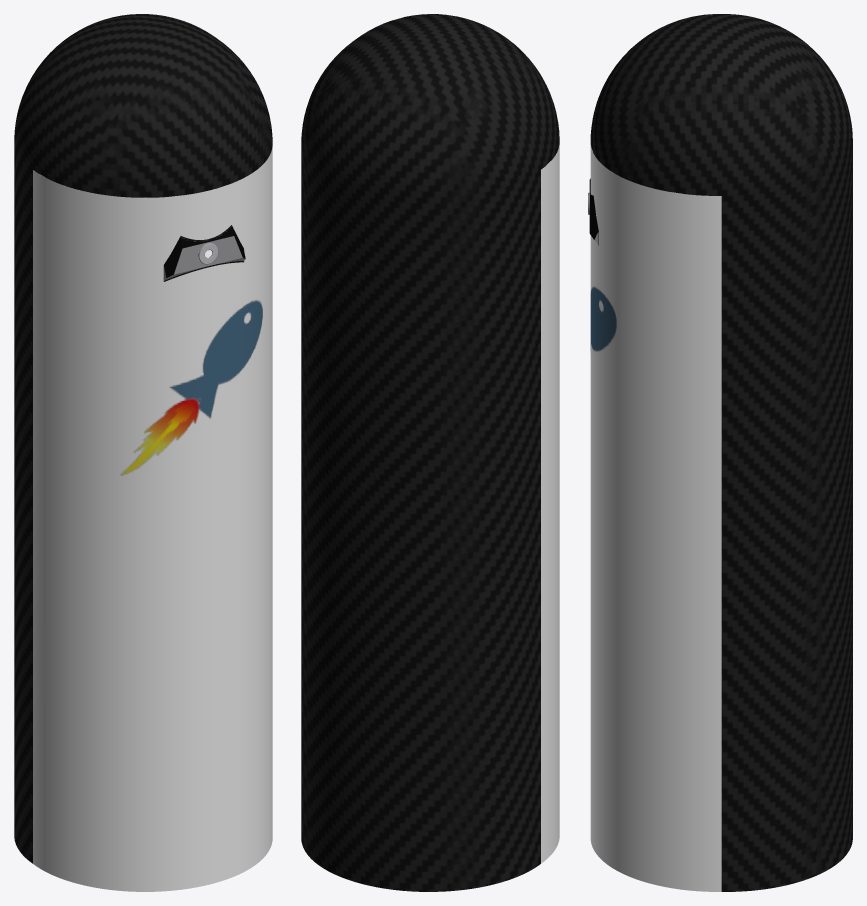
Rendered from orcasmol.glb.
3 renders of one model, left to right at view 1: azimuth 30°, elevation 25°; view 2: azimuth 150°, elevation 25°; view 3: azimuth 270°, elevation 25°, orthographic.
Size of the model in its own units: 0.0378 by 0.1325 by 0.0392.
Materials: 8 (4 with a texture image).
